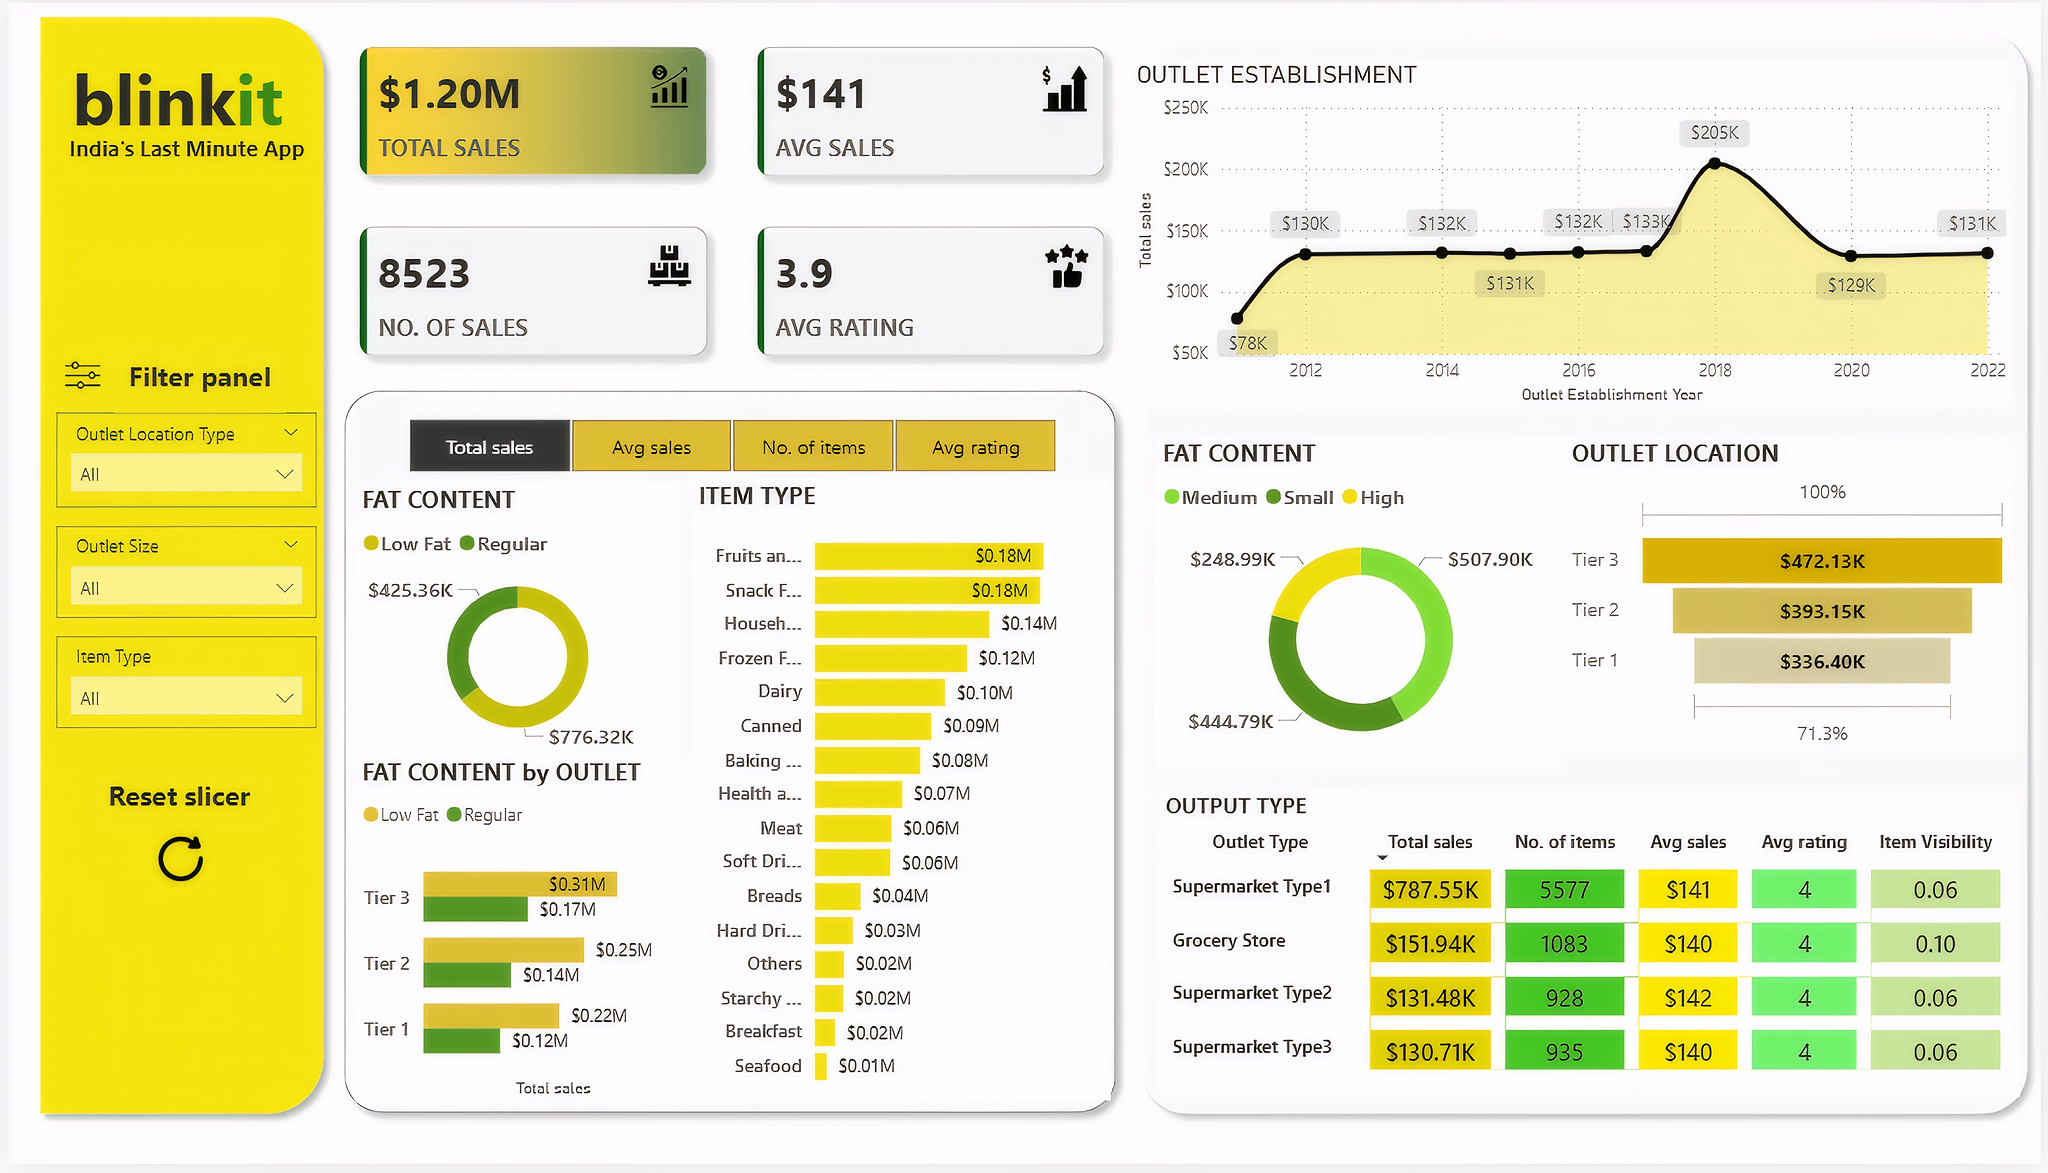

Layout of this report page (visuals, bound fields, positions):
{"tool":"powerbi","page":{"name":"Page 1","canvas":[1400,800],"ordinal":0},"visuals":[{"type":"shape","box":[11.7,0,213.3,775],"z":0},{"type":"textbox","box":[38.3,26.7,178.3,75],"z":1000},{"type":"textbox","box":[36.7,83.3,186.7,35],"z":2000},{"type":"cardVisual","fields":{"Data":["BlinkIT Grocery Data.Total sales","BlinkIT Grocery Data.Avg sales","BlinkIT Grocery Data.No. of items","BlinkIT Grocery Data.Avg rating"]},"box":[224,12,548,248],"z":3000},{"type":"shape","box":[223,258.7,549.8,515.7],"z":4000},{"type":"donutChart","title":"FAT CONTENT","fields":{"Y":["BlinkIT Grocery Data.Total sales"],"Category":["BlinkIT Grocery Data.Item Fat Content"]},"box":[238,330,224,190],"z":5000},{"type":"slicer","fields":{"Values":["Metrics.Metrics"]},"box":[250.2,279.1,495.3,49.4],"z":6000},{"type":"clusteredBarChart","title":"FAT CONTENT by OUTLET","fields":{"Y":["BlinkIT Grocery Data.Total sales"],"Series":["BlinkIT Grocery Data.Item Fat Content"],"Category":["BlinkIT Grocery Data.Outlet Location Type"]},"box":[238.3,517.4,231.5,240],"z":7000},{"type":"barChart","title":"ITEM TYPE","fields":{"Y":["BlinkIT Grocery Data.Total sales"],"Category":["BlinkIT Grocery Data.Item Type"]},"box":[469.8,328.5,289.4,428.9],"z":8000},{"type":"shape","box":[772.8,11.9,628.1,762.6],"z":9000},{"type":"lineChart","title":"OUTLET ESTABLISHMENT","fields":{"Category":["BlinkIT Grocery Data.Outlet Establishment Year"],"Y":["BlinkIT Grocery Data.Total sales"]},"box":[772.8,37.4,609.4,241.7],"z":10000},{"type":"donutChart","title":"FAT CONTENT","fields":{"Y":["BlinkIT Grocery Data.Total sales"],"Category":["BlinkIT Grocery Data.Outlet Size"]},"box":[789.2,297.9,282.6,229.8],"z":11000},{"type":"funnel","title":"OUTLET LOCATION","fields":{"Y":["BlinkIT Grocery Data.Total sales"],"Category":["BlinkIT Grocery Data.Outlet Location Type"]},"box":[1072.3,297.9,311.5,219.6],"z":12000},{"type":"pivotTable","title":"OUTPUT TYPE","fields":{"Rows":["BlinkIT Grocery Data.Outlet Type"],"Values":["BlinkIT Grocery Data.Total sales","BlinkIT Grocery Data.No. of items","BlinkIT Grocery Data.Avg sales","BlinkIT Grocery Data.Avg rating","Avg(BlinkIT Grocery Data.Item Visibility)"]},"box":[791.5,543,594,212.8],"z":13000},{"type":"slicer","fields":{"Values":["BlinkIT Grocery Data.Outlet Location Type"]},"box":[32.3,281.3,180,65],"z":14000},{"type":"slicer","fields":{"Values":["BlinkIT Grocery Data.Outlet Size"]},"box":[32,360,180,64],"z":15000},{"type":"slicer","fields":{"Values":["BlinkIT Grocery Data.Item Type"]},"box":[32,436,180,64],"z":16000},{"type":"textbox","box":[72,238,118,44],"z":17000},{"type":"image","box":[28,238,44,36],"z":18000},{"type":"textbox","box":[58,528,118,44],"z":19000},{"type":"image","box":[91.4,561.4,51.4,55.7],"z":20000}]}

Visuals, with their boxes in screenshot pixels (x1, y1, x2, y2), scaled from the page's 1400x800 canvas onto the 2048x1173 screenshot:
shape: locate(17, 0, 329, 1136)
textbox: locate(56, 39, 317, 149)
textbox: locate(54, 122, 327, 173)
cardVisual - BlinkIT Grocery Data.Total sales x BlinkIT Grocery Data.Avg sales: locate(328, 18, 1129, 381)
shape: locate(326, 379, 1130, 1135)
"FAT CONTENT" donutChart: locate(348, 484, 676, 762)
slicer - Metrics.Metrics: locate(366, 409, 1091, 482)
"FAT CONTENT by OUTLET" clusteredBarChart: locate(349, 759, 687, 1111)
"ITEM TYPE" barChart: locate(687, 482, 1111, 1111)
shape: locate(1130, 17, 2047, 1136)
"OUTLET ESTABLISHMENT" lineChart: locate(1130, 55, 2022, 409)
"FAT CONTENT" donutChart: locate(1154, 437, 1568, 774)
"OUTLET LOCATION" funnel: locate(1569, 437, 2024, 759)
"OUTPUT TYPE" pivotTable: locate(1158, 796, 2027, 1108)
slicer - BlinkIT Grocery Data.Outlet Location Type: locate(47, 412, 311, 508)
slicer - BlinkIT Grocery Data.Outlet Size: locate(47, 528, 310, 622)
slicer - BlinkIT Grocery Data.Item Type: locate(47, 639, 310, 733)
textbox: locate(105, 349, 278, 413)
image: locate(41, 349, 105, 402)
textbox: locate(85, 774, 257, 839)
image: locate(134, 823, 209, 905)
